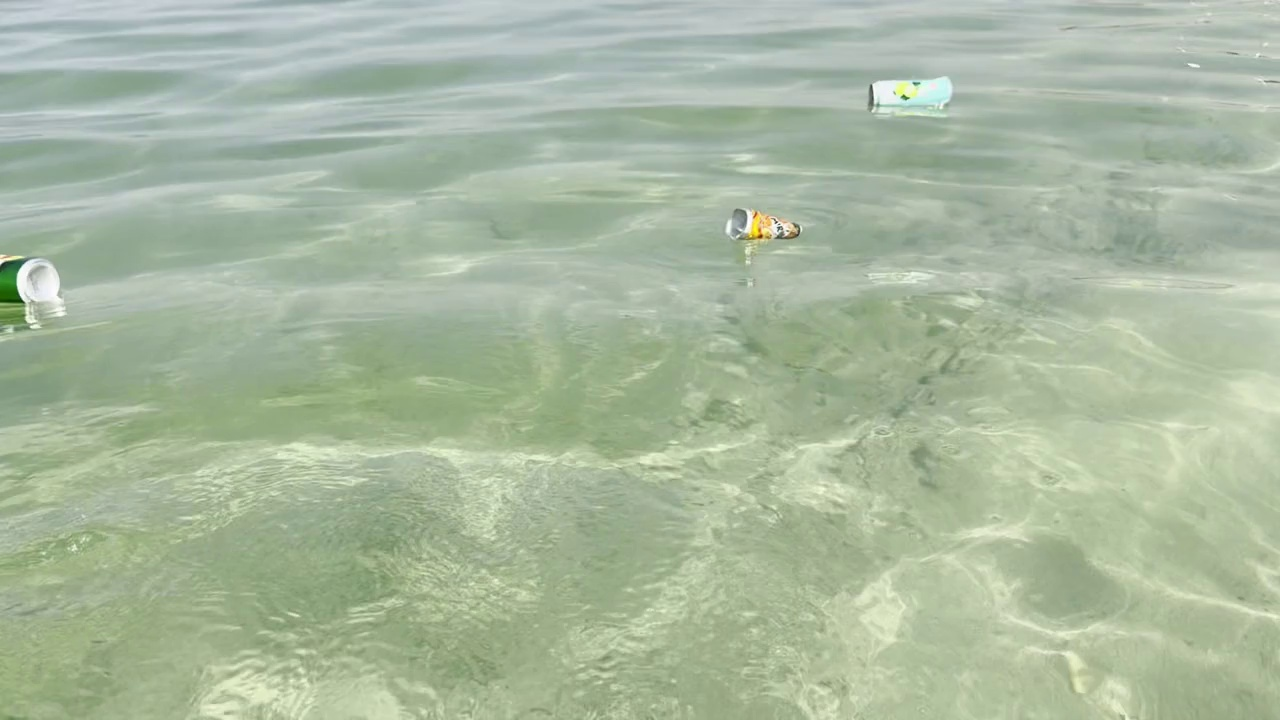debris: (864, 66, 956, 122), (0, 245, 67, 315), (719, 200, 810, 250)
